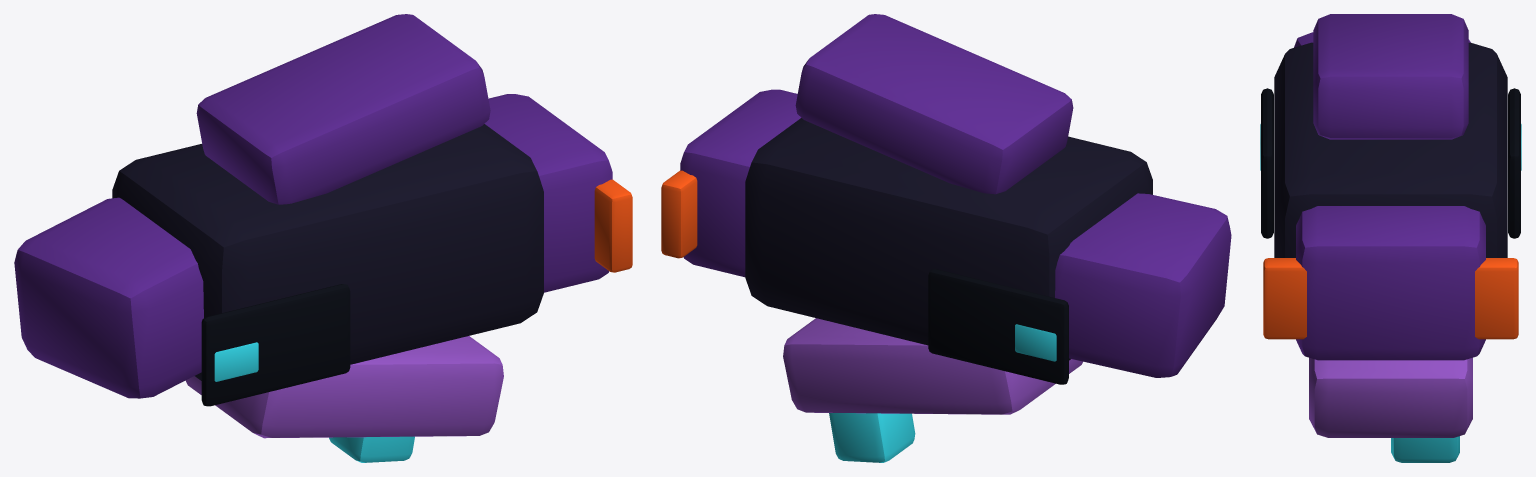
Rendered from prism_glider.obj.
The picture shows the model from 3 angles, left to right: view 1: azimuth 30°, elevation 25°; view 2: azimuth 150°, elevation 25°; view 3: azimuth 270°, elevation 25°; orthographic projection. The views are drawn at different scales.
Parts seen in each view (by area): view 1: PrismGlider; view 2: PrismGlider; view 3: PrismGlider.
Boxes of the visible parts, left/top/right/bottom form: PrismGlider: left=14, top=14, right=632, bottom=462; PrismGlider: left=661, top=14, right=1231, bottom=462; PrismGlider: left=1260, top=14, right=1521, bottom=462.
Bounding box in the file's own units: 1.36 × 1.04 × 0.6056.
Materials: 1 (1 with a texture image).
